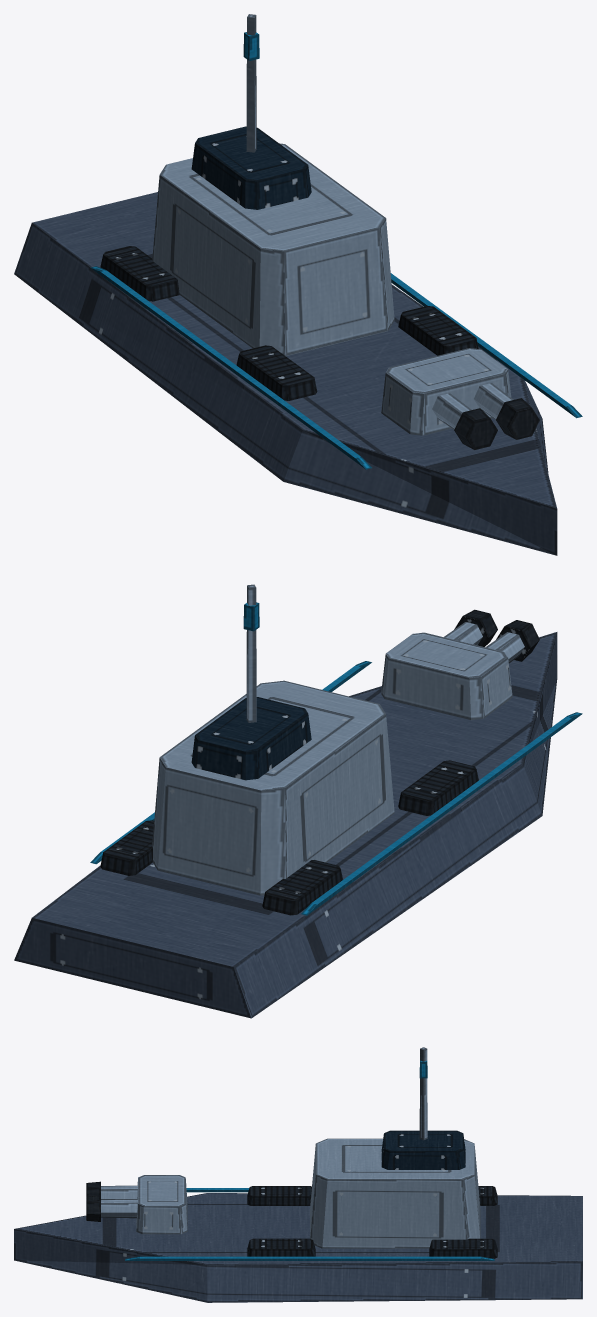
Rendered from unit-patrol_boat.fbx.
3 views of the same model, one above another, from view 1: azimuth 30°, elevation 25°; view 2: azimuth 150°, elevation 25°; view 3: azimuth 270°, elevation 25° (orthographic). The views are drawn at different scales.
Visible parts, largest first — view 1: unit-patrol_boat; view 2: unit-patrol_boat; view 3: unit-patrol_boat.
Part boxes in pixels (x1=…): unit-patrol_boat: x1=14, y1=14, x2=582, y2=555; unit-patrol_boat: x1=14, y1=584, x2=582, y2=1018; unit-patrol_boat: x1=14, y1=1047, x2=582, y2=1302.
Size of the model in its own units: 403 by 470 by 1144.
1 material, 1 textured.
